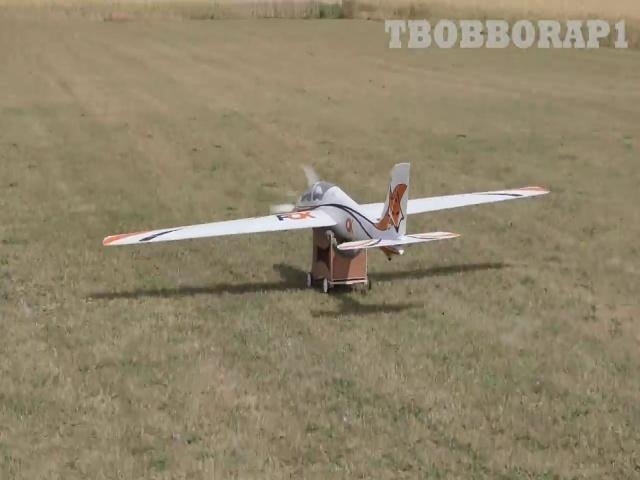Airplane: (103, 163, 550, 260)
